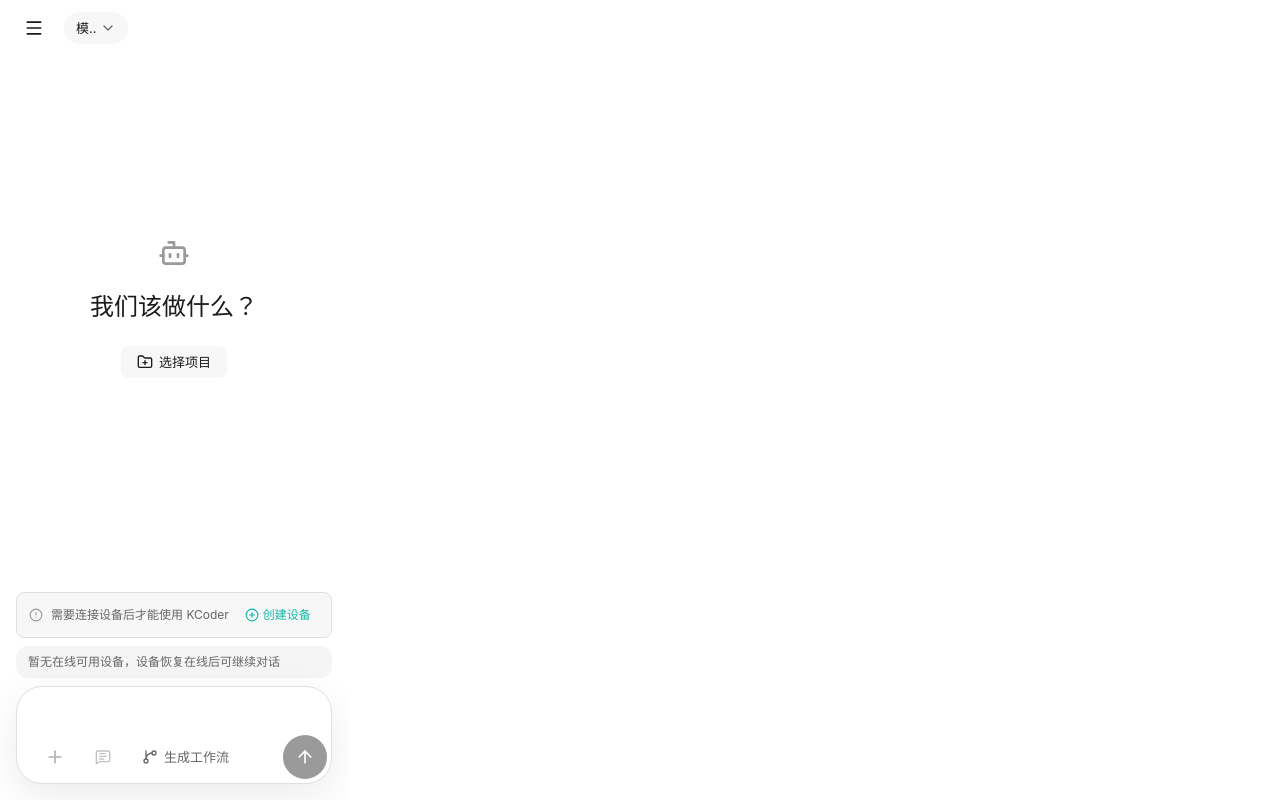
Test: MobileWorkbenchLayout › limits mobile project runtime tasks to five newest rows
Click the button with test id "open-mobile-drawer-button" at (34, 28), box [12,6,56,50]
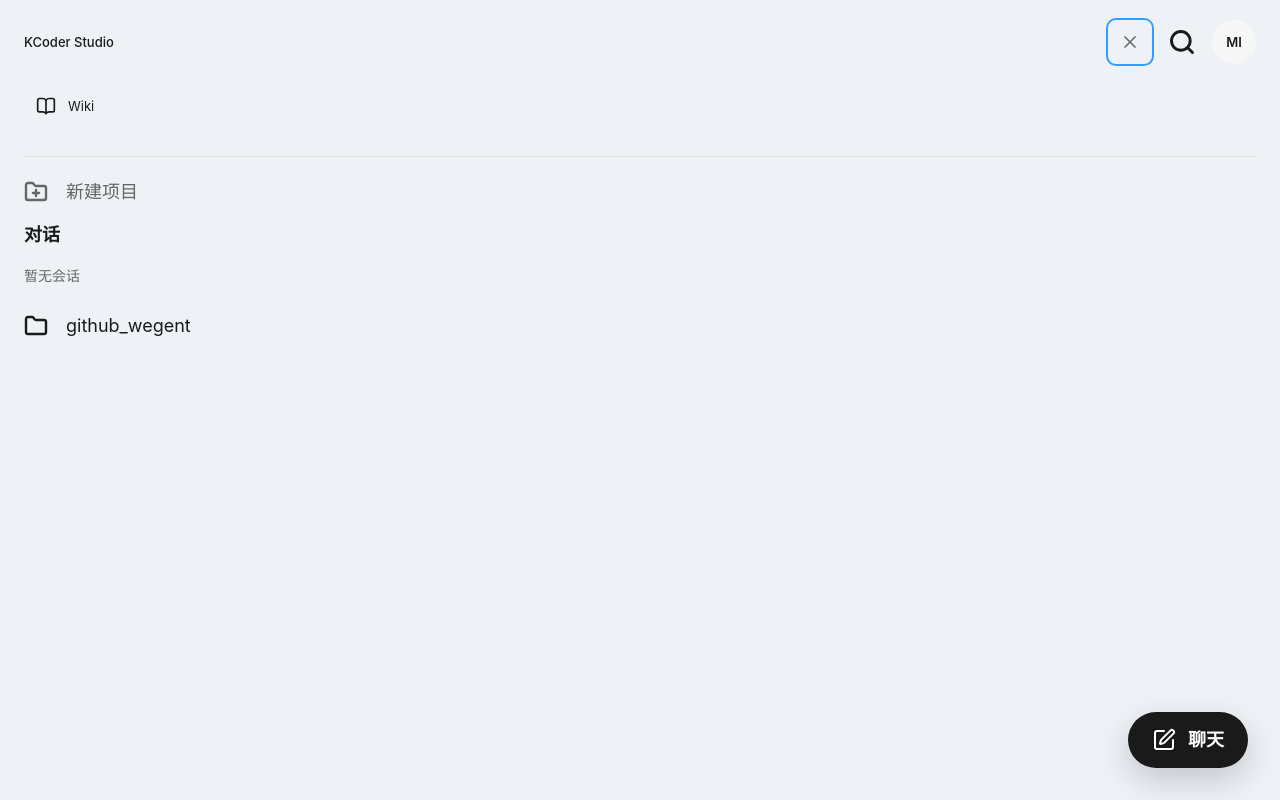
Click the button "github_wegent" at (128, 326), box [12,299,1268,353]
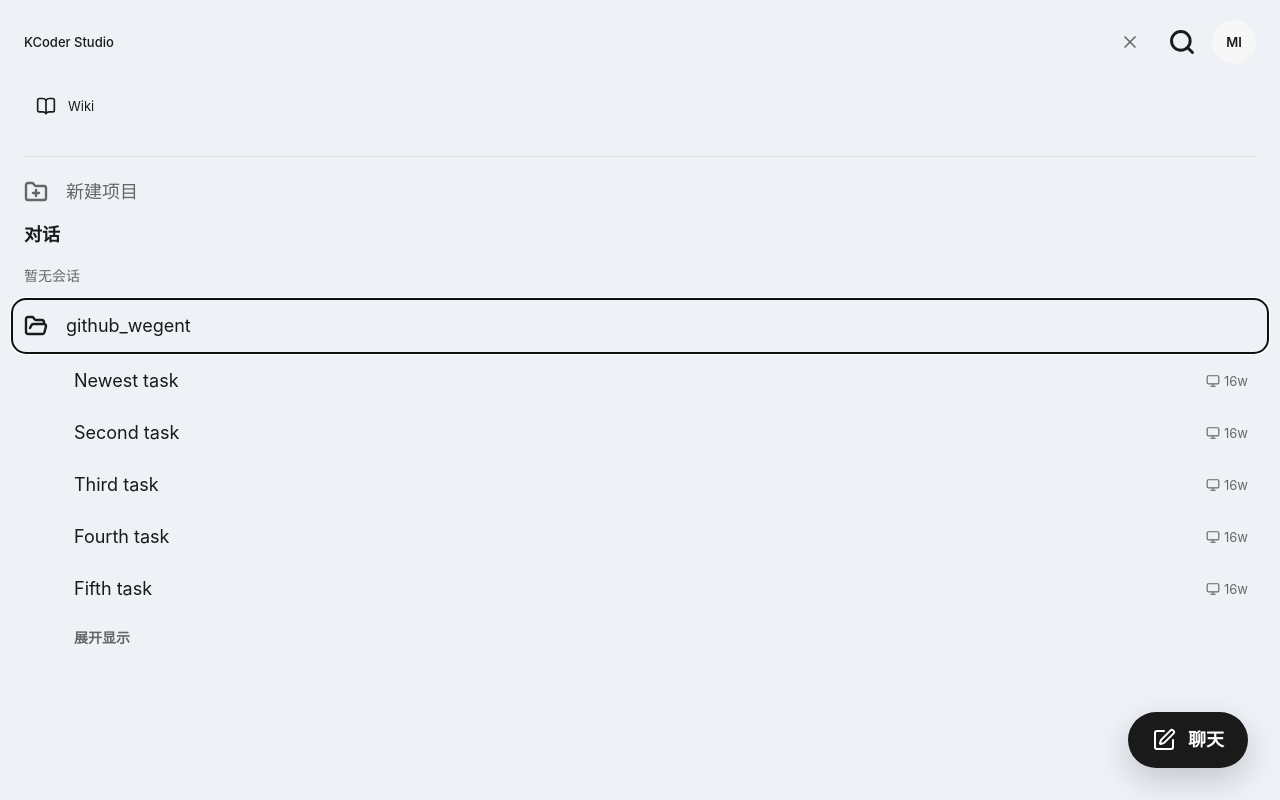
Expected: the text "Oldest hidden task" is not shown
Expected: the number of buttons with test id "mobile-runtime-task-button" is 5, [66,357,1256,405]; [66,409,1256,457]; [66,461,1256,509]; [66,513,1256,561]; [66,565,1256,613]
Expected: the button with test id "mobile-project-runtime-tasks-expand-1" reads "展开显示"
Click the button with test id "mobile-project-runtime-tasks-expand-1" at (102, 637), box [66,617,138,657]
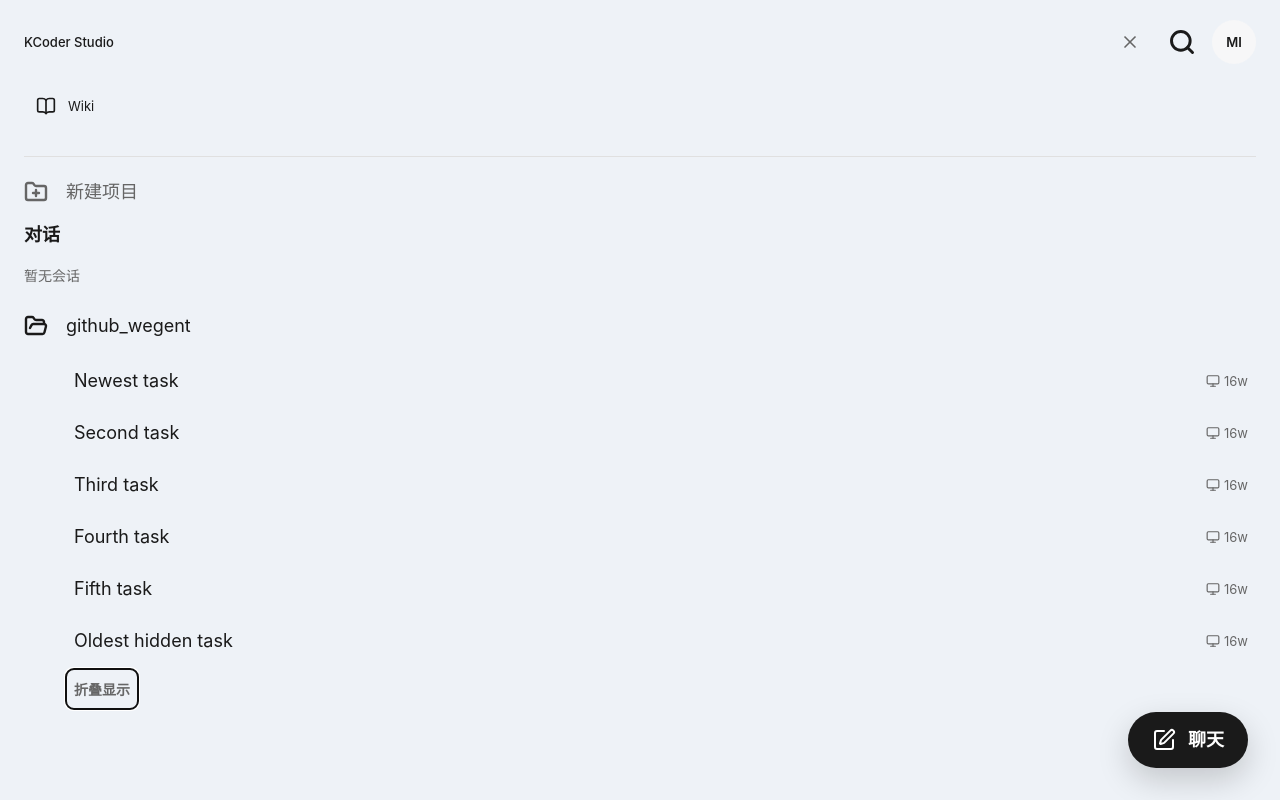
Expected: the text "Fourth task" is shown, [74,526,170,547]
Expected: the number of buttons with test id "mobile-runtime-task-button" is 6, [66,357,1256,405]; [66,409,1256,457]; [66,461,1256,509]; [66,513,1256,561]; [66,565,1256,613]; [66,617,1256,665]
Expected: the button with test id "mobile-project-runtime-tasks-collapse-1" reads "折叠显示"
Click the button with test id "mobile-project-runtime-tasks-collapse-1" at (102, 689), box [66,669,138,709]
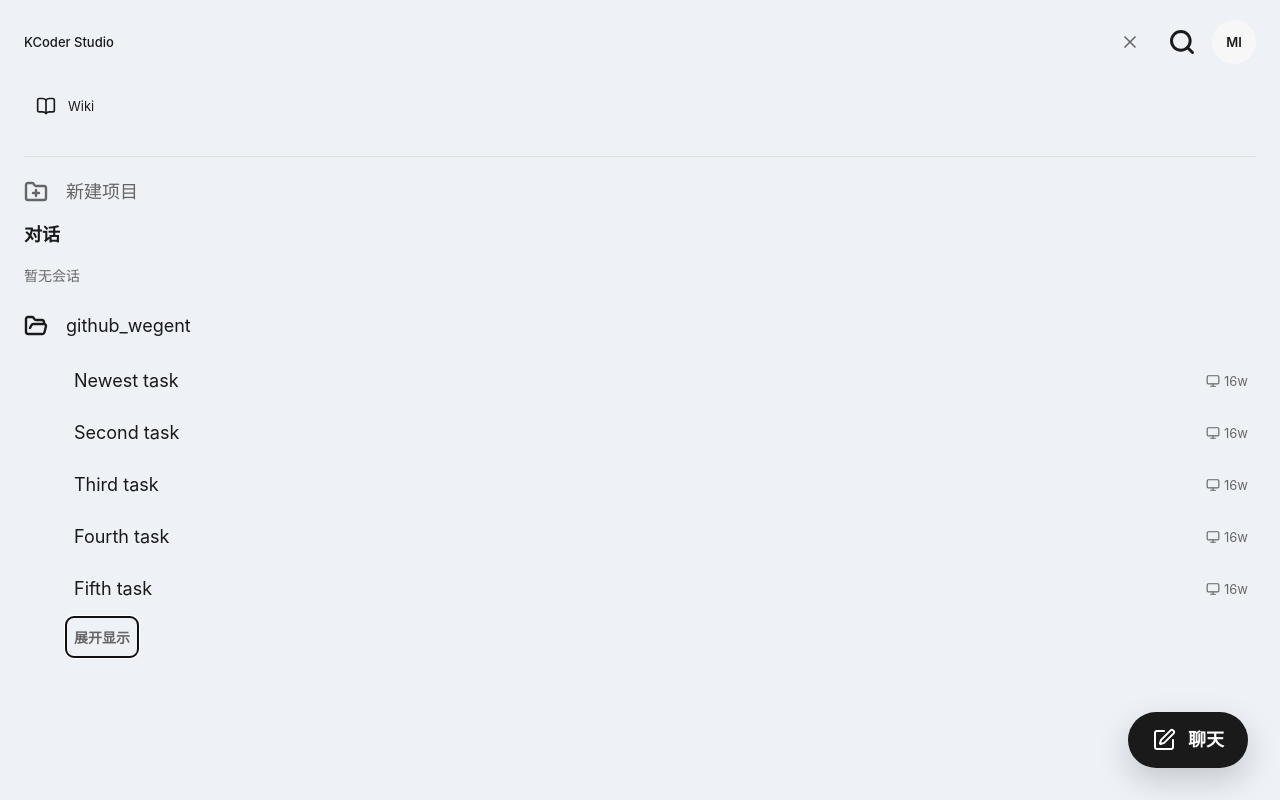
Expected: the number of buttons with test id "mobile-runtime-task-button" is 5, [66,357,1256,405]; [66,409,1256,457]; [66,461,1256,509]; [66,513,1256,561]; [66,565,1256,613]
Expected: the button "Oldest hidden task" is gone
